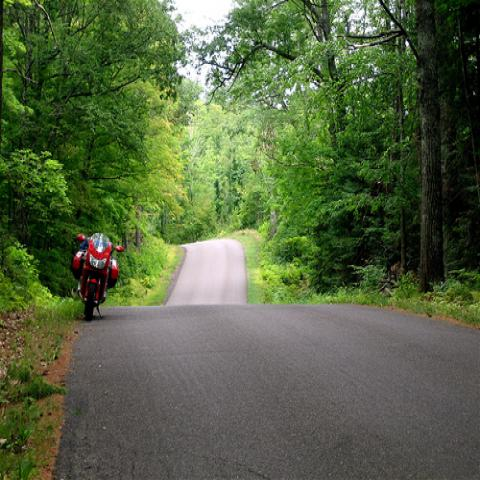motorcycle: (72, 231, 125, 321)
